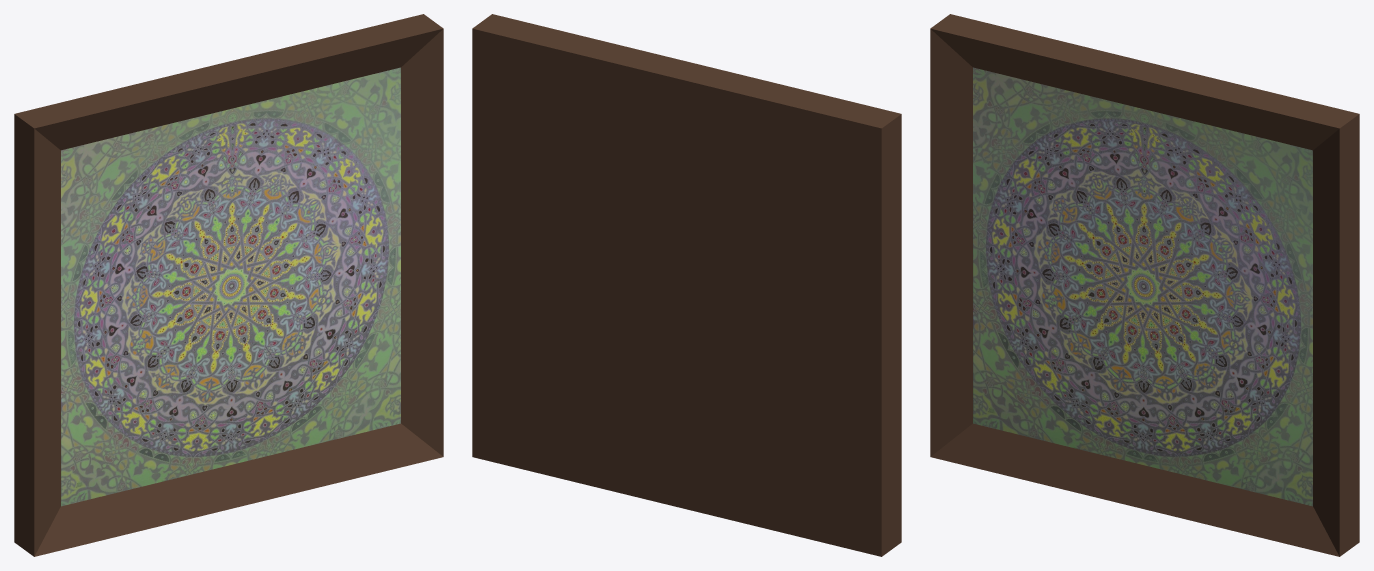
The model's file is tridecagon-moon-star-tridecagon-sage-green-a3-walnut-tray-v2.glb.
The picture shows the model from 3 angles, left to right: view 1: azimuth 30°, elevation 25°; view 2: azimuth 150°, elevation 25°; view 3: azimuth 330°, elevation 25°; orthographic projection.
Parts seen in each view (by area): view 1: FramedPrint; view 2: FramedPrint; view 3: FramedPrint.
Part boxes in pixels (x1,y1,x2,y2): FramedPrint: (14,14,443,556); FramedPrint: (472,14,901,556); FramedPrint: (930,14,1359,556).
Size of the model in its own units: 0.355 by 0.355 by 0.03.
Materials: 2 (1 with a texture image).
